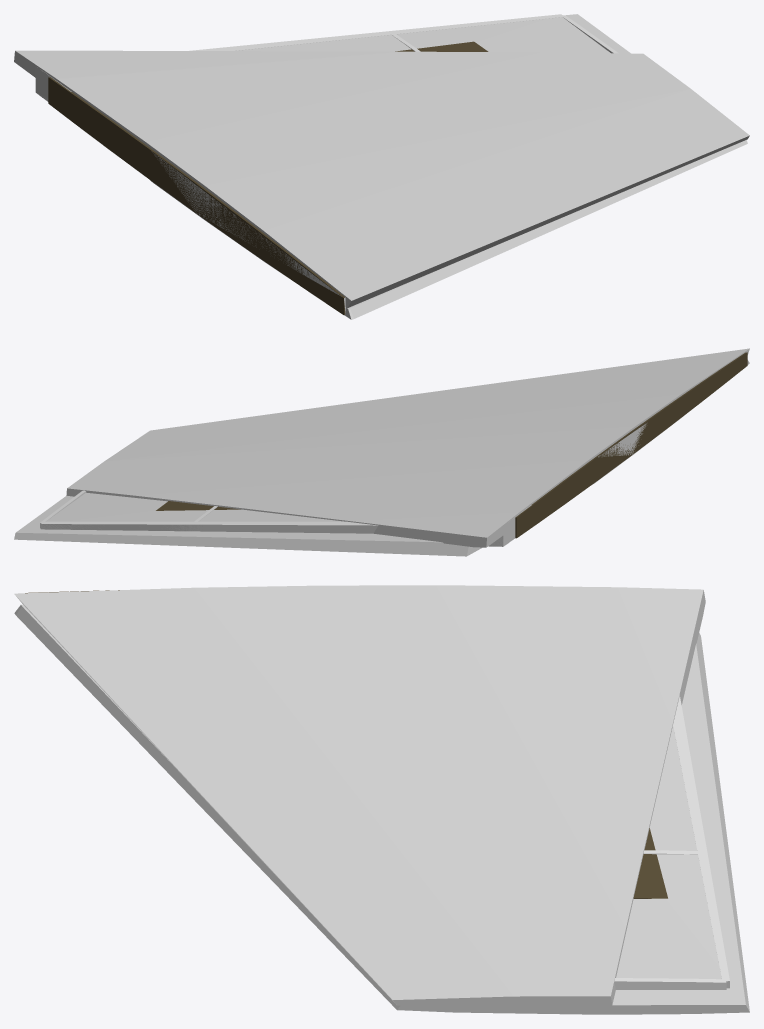
Rendered from wing_spar_outer_L.fbx.
3 views of the same model, one above another, from view 1: azimuth 30°, elevation 25°; view 2: azimuth 150°, elevation 25°; view 3: azimuth 270°, elevation 25° (orthographic). The views are drawn at different scales.
Visible parts, largest first — view 1: wing_spar_outer_L_colmesh1, wing_spar_outer_L, wing_spar_outer_L_colmesh2, wing_spar_outer_L_colmesh0; view 2: wing_spar_outer_L_colmesh1, wing_spar_outer_L, wing_spar_outer_L_colmesh0, wing_spar_outer_L_colmesh2; view 3: wing_spar_outer_L_colmesh1, wing_spar_outer_L_colmesh0, wing_spar_outer_L_colmesh2, wing_spar_outer_L.
Part boxes in pixels (x1=…): wing_spar_outer_L_colmesh1: x1=14, y1=50, x2=749, y2=308; wing_spar_outer_L: x1=42, y1=14, x2=618, y2=314; wing_spar_outer_L_colmesh2: x1=35, y1=17, x2=610, y2=314; wing_spar_outer_L_colmesh0: x1=150, y1=14, x2=747, y2=319; wing_spar_outer_L_colmesh1: x1=66, y1=348, x2=749, y2=547; wing_spar_outer_L: x1=40, y1=352, x2=747, y2=546; wing_spar_outer_L_colmesh0: x1=14, y1=360, x2=749, y2=556; wing_spar_outer_L_colmesh2: x1=41, y1=423, x2=646, y2=546; wing_spar_outer_L_colmesh1: x1=14, y1=585, x2=705, y2=1005; wing_spar_outer_L_colmesh0: x1=14, y1=604, x2=749, y2=1014; wing_spar_outer_L_colmesh2: x1=616, y1=726, x2=729, y2=988; wing_spar_outer_L: x1=25, y1=590, x2=729, y2=989.
Bounding box in the file's own units: 1.45 × 0.3188 × 1.54.
